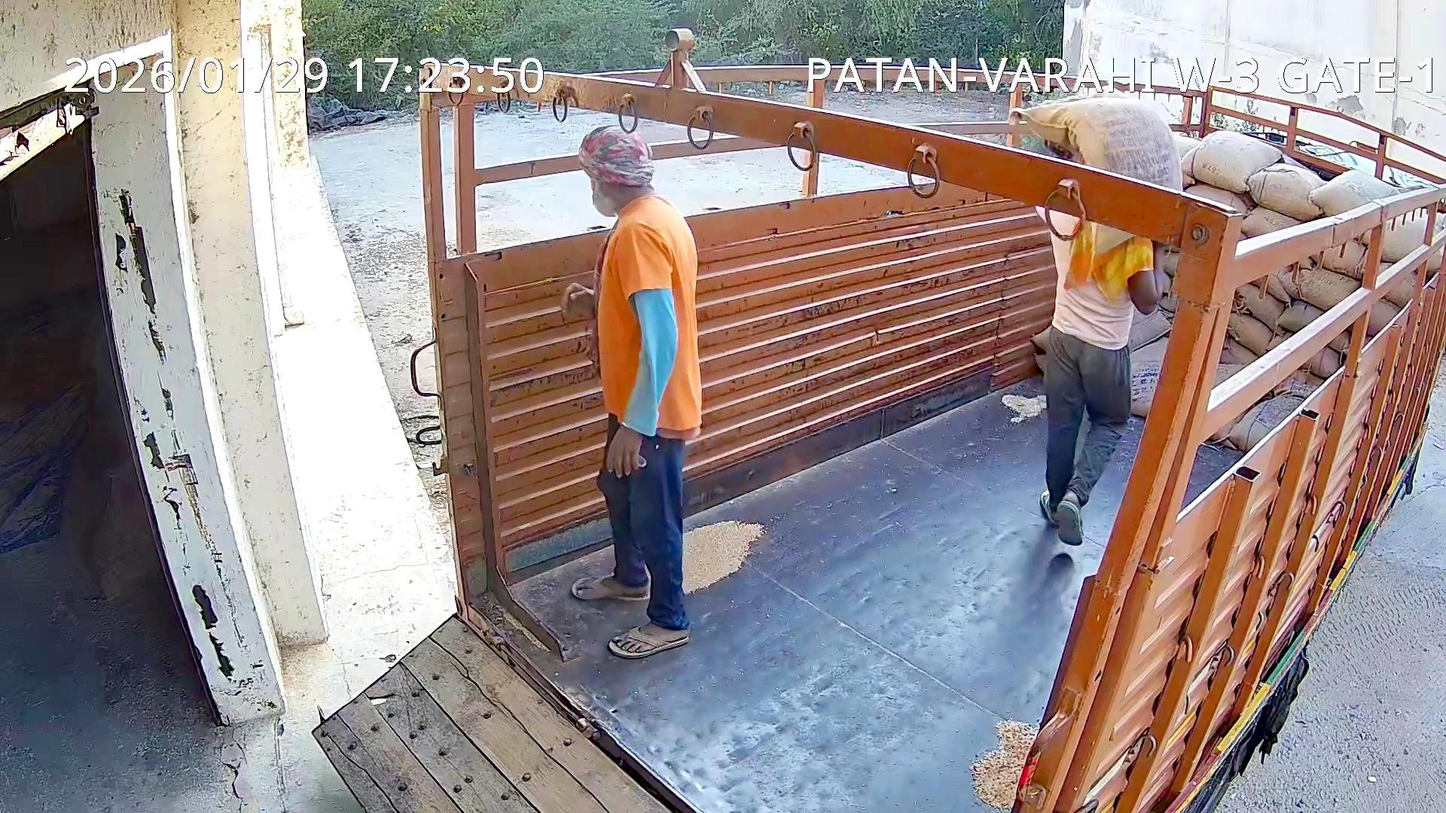Sack: (1011, 96, 1181, 191), (1087, 216, 1135, 248)
